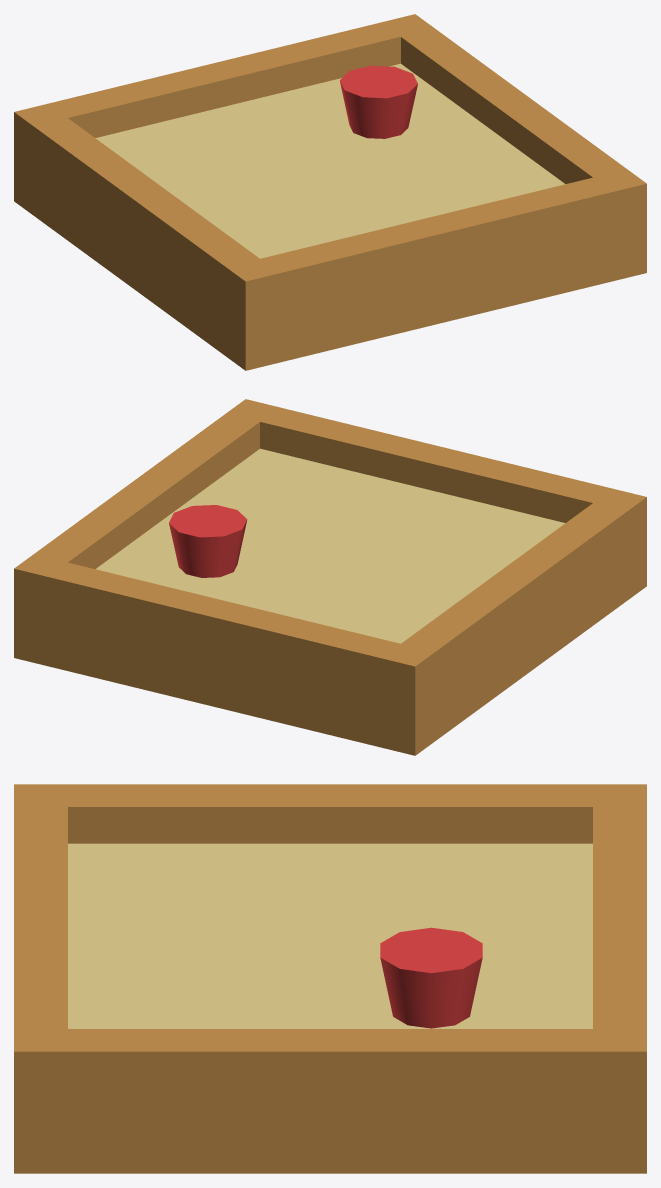
The model's file is sandbox_small.glb.
3 renders of one model, top to bottom at view 1: azimuth 30°, elevation 25°; view 2: azimuth 150°, elevation 25°; view 3: azimuth 270°, elevation 25°, orthographic. The views are drawn at different scales.
Parts seen in each view (by area): view 1: sandbox_small; view 2: sandbox_small; view 3: sandbox_small.
Part boxes in pixels (x1,y1,x2,y2): sandbox_small: (14,14,646,370); sandbox_small: (14,399,646,755); sandbox_small: (14,784,646,1173).
Size of the model in its own units: 0.94 by 0.24 by 0.94.
